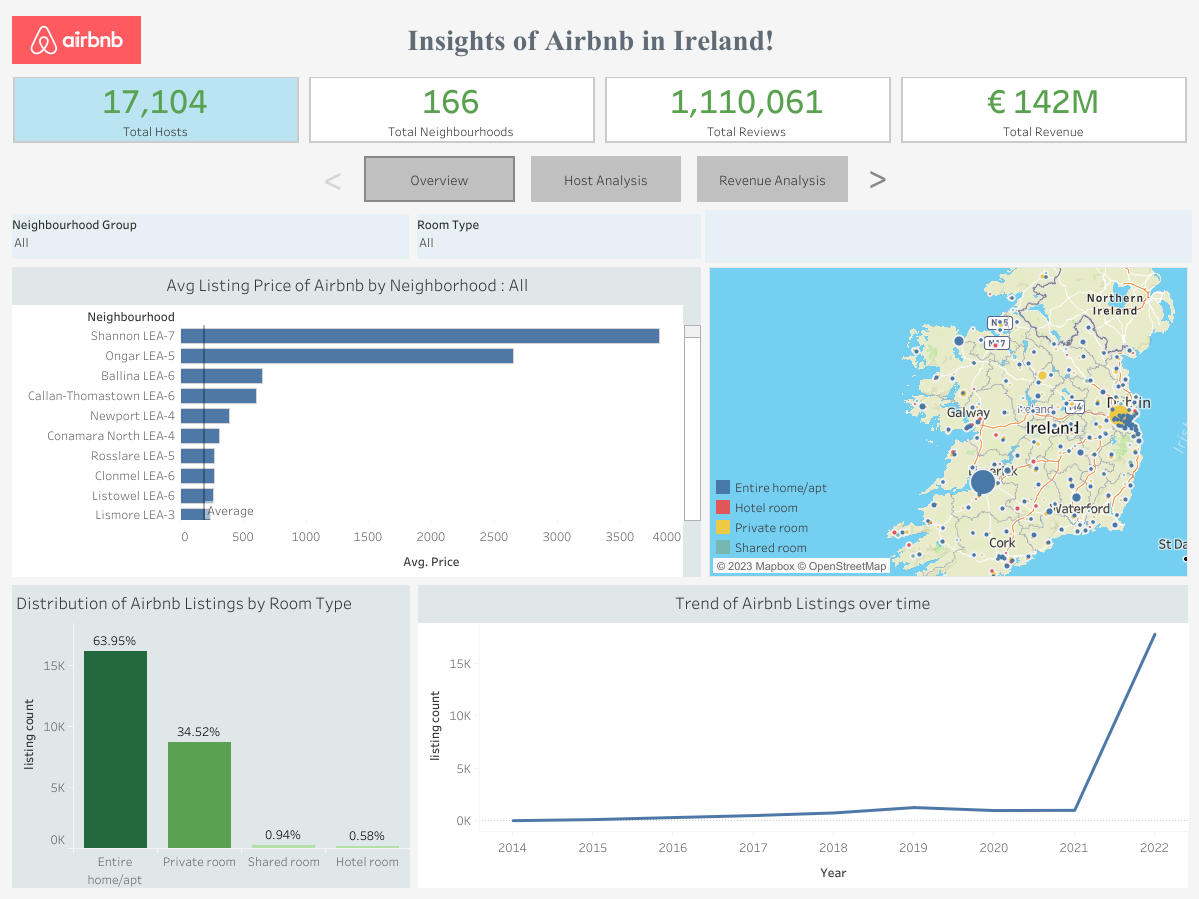

What the dashboard file says about the page in this screenshot:
{"tool":"tableau","page":{"name":"Airbnb - Overview","canvas":[1200,900],"ordinal":1},"visuals":[{"type":"image","param":"Image/airbnb_logo_detail.jpeg","box":[8,8,137,64]},{"type":"text","box":[145,8,892,64]},{"type":"worksheet","title":"Total Hosts","mark":"Automatic","box":[8,72,296,76]},{"type":"worksheet","title":"Total Neighbourhoods","mark":"Automatic","box":[304,72,296,76]},{"type":"worksheet","title":"Total Reviews","mark":"Automatic","box":[600,72,296,76]},{"type":"worksheet","title":"Total Revenue","mark":"Automatic","box":[896,72,296,76]},{"type":"blank","box":[8,148,292,62]},{"type":"blank","box":[300,148,56,62]},{"type":"dashboard-object","box":[356,148,167,62]},{"type":"dashboard-object","box":[523,148,166,62]},{"type":"dashboard-object","box":[689,148,167,62]},{"type":"blank","box":[856,148,40,62]},{"type":"blank","box":[896,148,296,62]},{"type":"dashboard-object","box":[856,155,43,45]},{"type":"dashboard-object","box":[312,157,43,45]},{"type":"filter","title":"Avg Listing Price of Airbnb by Neighborhood","param":"[federated.0d6vh2y0uswwkz17mnpo40ihjz82].[none:neighbourhood_group:nk]","box":[8,210,405,52]},{"type":"filter","title":"Avg Listing Price of Airbnb by Neighborhood","param":"[federated.0d6vh2y0uswwkz17mnpo40ihjz82].[none:room_type:nk]","box":[413,210,292,53]},{"type":"worksheet","title":"Avg Listing Price of Airbnb by Neighborhood","mark":"Automatic","rows":["neighbourhood"],"cols":["price"],"box":[8,263,697,318]},{"type":"worksheet","title":"Airbnb location map","mark":"Automatic","rows":["latitude"],"cols":["longitude"],"box":[705,263,487,318]},{"type":"legend","title":"Airbnb location map","param":"[federated.0d6vh2y0uswwkz17mnpo40ihjz82].[none:room_type:nk]","box":[713,477,140,80]},{"type":"worksheet","title":"Distribution of Airbnb Listings by Room Type","mark":"Automatic","rows":["id"],"cols":["room_type"],"box":[8,581,406,311]},{"type":"worksheet","title":"Trend of Airbnb Listings over time","mark":"Line","rows":["Airbnb_listings_Ireland.csv_FB0943C01B57494C94BA0547B8D0F954"],"cols":["last_review"],"box":[414,581,778,311]}]}

Visuals, with their boxes in screenshot pixels (x1, y1, x2, y2), scaled from the page's 1200x900 canvas onto the 1199x899 screenshot:
image: pyautogui.locateOnScreen(8, 8, 145, 72)
text: pyautogui.locateOnScreen(145, 8, 1036, 72)
"Total Hosts" worksheet: pyautogui.locateOnScreen(8, 72, 304, 148)
"Total Neighbourhoods" worksheet: pyautogui.locateOnScreen(304, 72, 600, 148)
"Total Reviews" worksheet: pyautogui.locateOnScreen(600, 72, 895, 148)
"Total Revenue" worksheet: pyautogui.locateOnScreen(895, 72, 1191, 148)
blank: pyautogui.locateOnScreen(8, 148, 300, 210)
blank: pyautogui.locateOnScreen(300, 148, 356, 210)
dashboard-object: pyautogui.locateOnScreen(356, 148, 523, 210)
dashboard-object: pyautogui.locateOnScreen(523, 148, 688, 210)
dashboard-object: pyautogui.locateOnScreen(688, 148, 855, 210)
blank: pyautogui.locateOnScreen(855, 148, 895, 210)
blank: pyautogui.locateOnScreen(895, 148, 1191, 210)
dashboard-object: pyautogui.locateOnScreen(855, 155, 898, 200)
dashboard-object: pyautogui.locateOnScreen(312, 157, 355, 202)
"Avg Listing Price of Airbnb by Neighborhood" filter: pyautogui.locateOnScreen(8, 210, 413, 262)
"Avg Listing Price of Airbnb by Neighborhood" filter: pyautogui.locateOnScreen(413, 210, 704, 263)
"Avg Listing Price of Airbnb by Neighborhood" worksheet: pyautogui.locateOnScreen(8, 263, 704, 580)
"Airbnb location map" worksheet: pyautogui.locateOnScreen(704, 263, 1191, 580)
"Airbnb location map" legend: pyautogui.locateOnScreen(712, 476, 852, 556)
"Distribution of Airbnb Listings by Room Type" worksheet: pyautogui.locateOnScreen(8, 580, 414, 891)
"Trend of Airbnb Listings over time" worksheet (Line marks): pyautogui.locateOnScreen(414, 580, 1191, 891)
